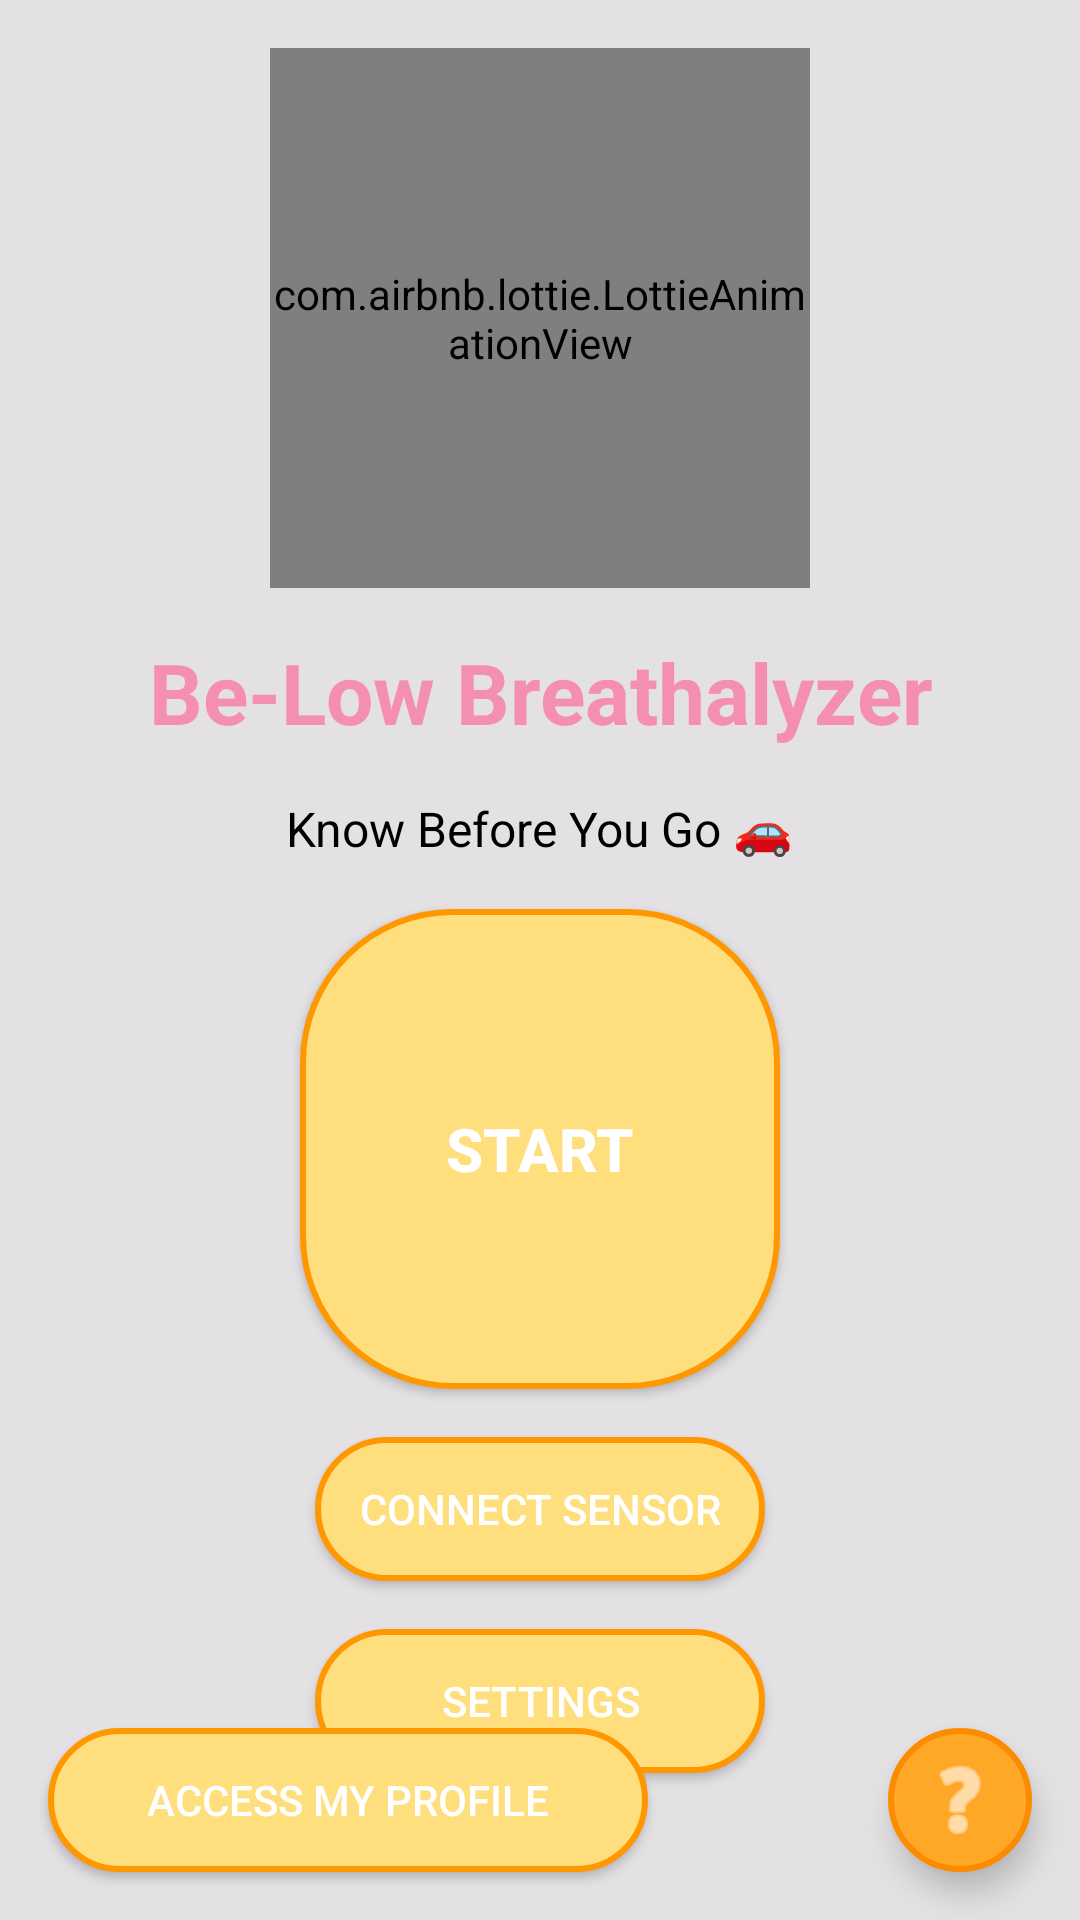

Screen size 1080 x 1920. Icon name, then its box in pixels as box(x1, y1, x2, y2):
Help: box(888, 1728, 1032, 1872)
